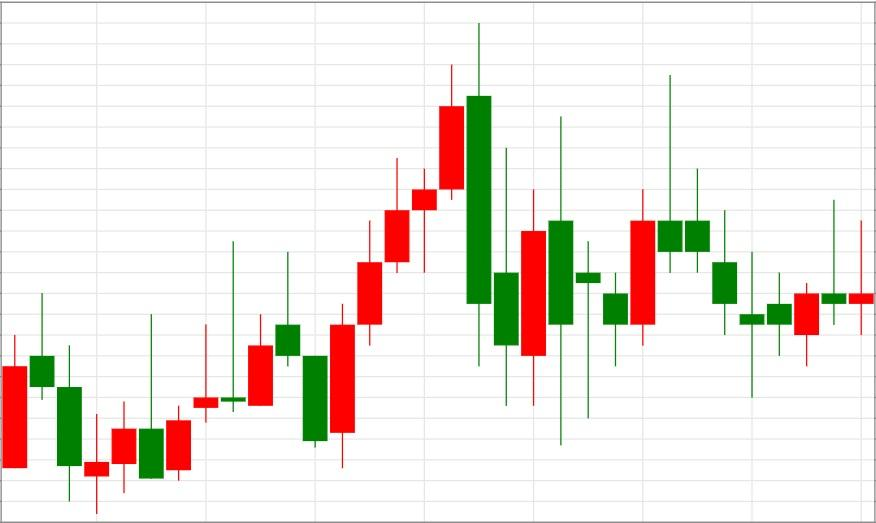bearish_engulfing_fall: (301, 22, 493, 469)
